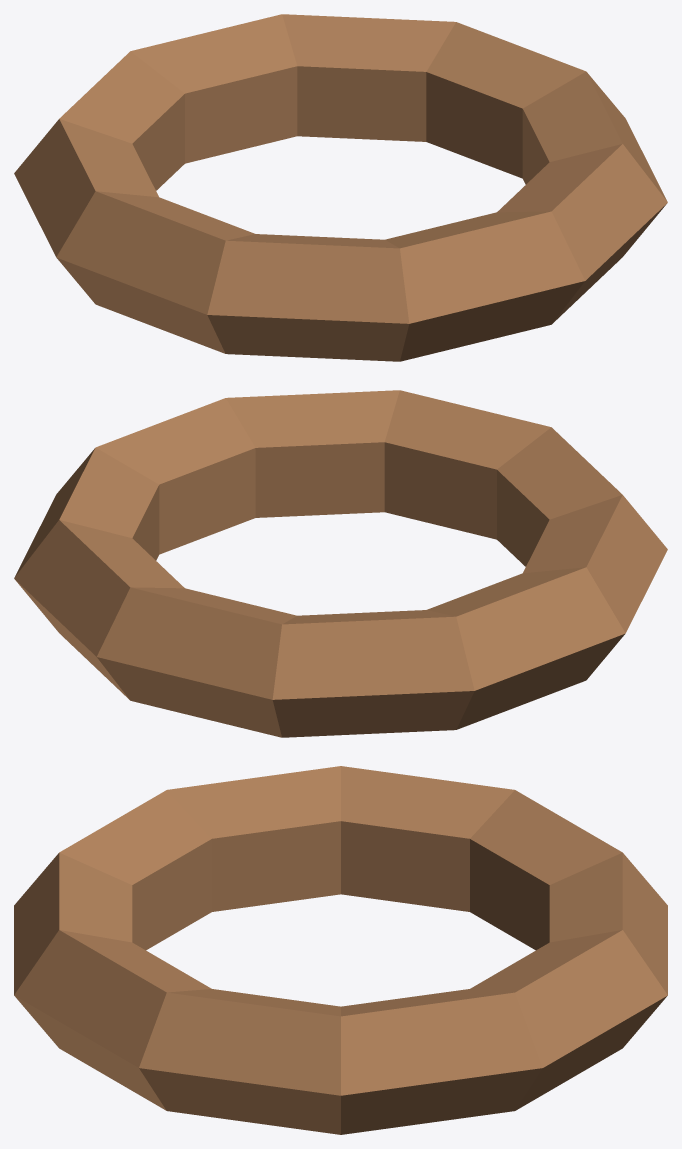
Rendered from 4 bagels.fbx.
3 views of the same model, one above another, from view 1: azimuth 30°, elevation 25°; view 2: azimuth 150°, elevation 25°; view 3: azimuth 270°, elevation 25° (orthographic). The views are drawn at different scales.
Visible parts, largest first — view 1: 4 bagels; view 2: 4 bagels; view 3: 4 bagels.
Part boxes in pixels (x1,y1,x2,y2): 4 bagels: [14, 14, 667, 361]; 4 bagels: [14, 390, 667, 737]; 4 bagels: [14, 766, 667, 1134].
Bounding box in the file's own units: 5.76 × 1.1 × 5.48.
